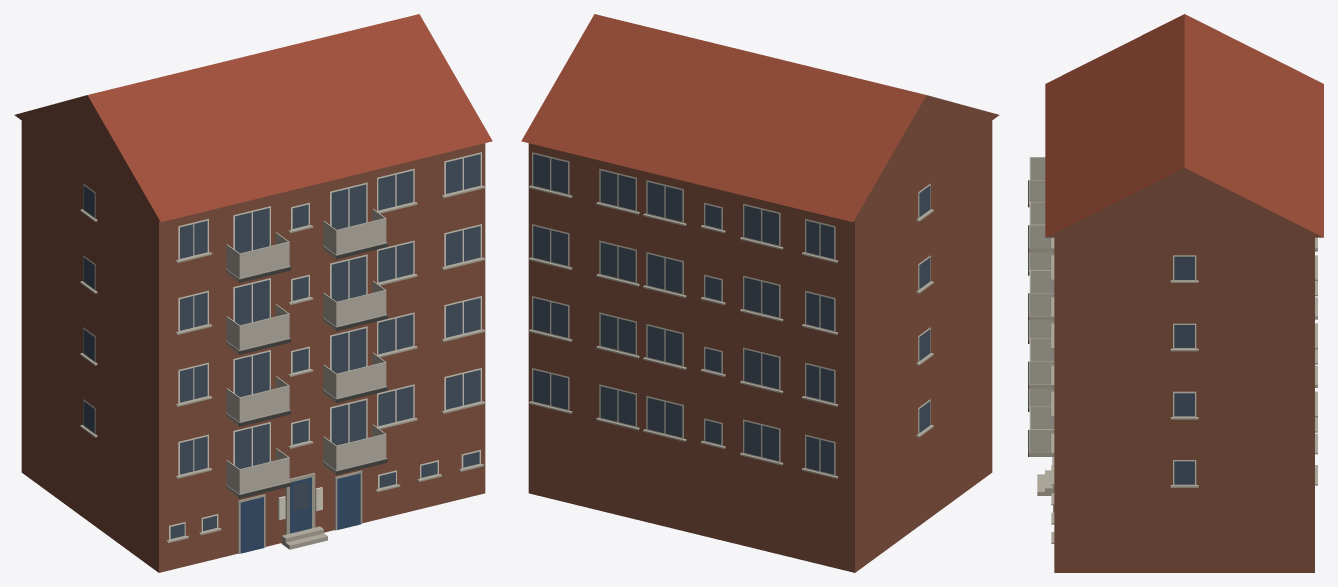
Rendered from nw-portiek-brick-pitched__brick__5__gable__long__solid.glb.
3 views of the same model, side by side, from view 1: azimuth 30°, elevation 25°; view 2: azimuth 150°, elevation 25°; view 3: azimuth 270°, elevation 25° (orthographic). The views are drawn at different scales.
Visible parts, largest first — view 1: nw-portiek-brick-pitched__brick__5__gable__long__solid; view 2: nw-portiek-brick-pitched__brick__5__gable__long__solid; view 3: nw-portiek-brick-pitched__brick__5__gable__long__solid.
Part boxes in pixels (x1=…): nw-portiek-brick-pitched__brick__5__gable__long__solid: x1=14, y1=14, x2=492, y2=572; nw-portiek-brick-pitched__brick__5__gable__long__solid: x1=521, y1=14, x2=999, y2=572; nw-portiek-brick-pitched__brick__5__gable__long__solid: x1=1028, y1=14, x2=1323, y2=572.
Bounding box in the file's own units: 14.28 × 17.61 × 11.61.
